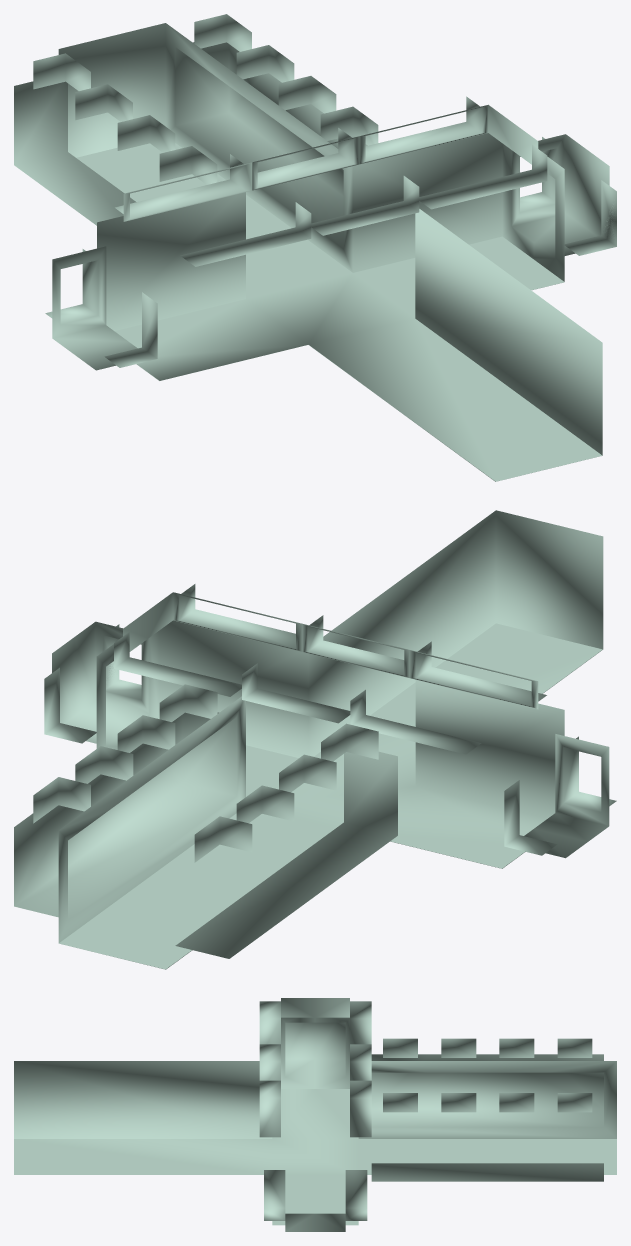
File: galleria4.gltf
3 views of the same model, one above another, from view 1: azimuth 30°, elevation 25°; view 2: azimuth 150°, elevation 25°; view 3: azimuth 270°, elevation 25° (orthographic). The views are drawn at different scales.
Parts seen in each view (by area): view 1: Piano.020_Piano.029; view 2: Piano.020_Piano.029; view 3: Piano.020_Piano.029.
Boxes of the visible parts, x1,y1,x2,y2 form: Piano.020_Piano.029: (14,14,616,481); Piano.020_Piano.029: (14,510,616,969); Piano.020_Piano.029: (14,998,616,1231).
Size of the model in its own units: 399 by 105 by 588.
